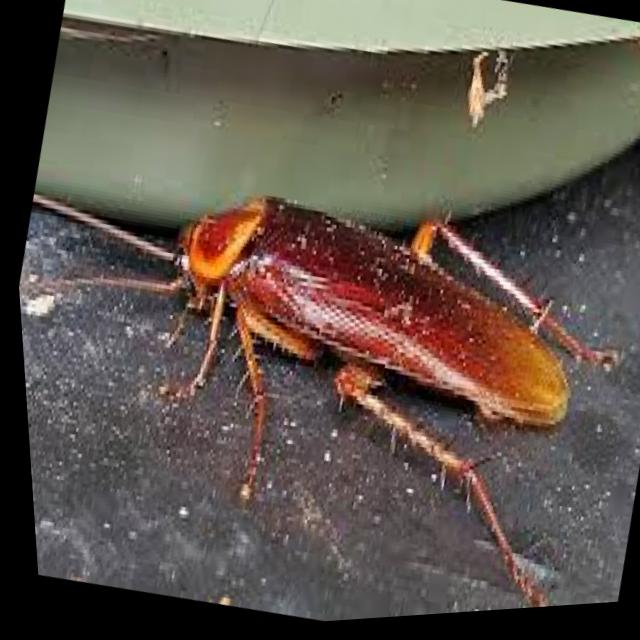Cockroach: (7, 97, 640, 640)
